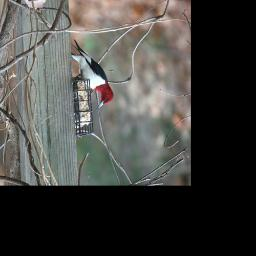Woodpecker: (66, 37, 118, 112)
